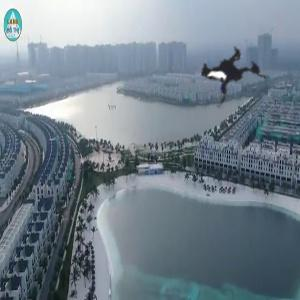drone: (166, 2, 298, 134)
